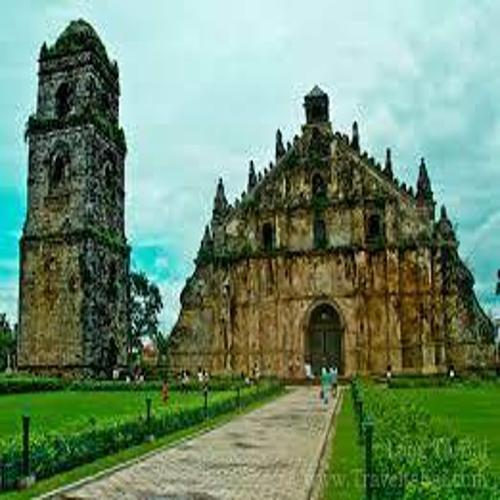Paoay Church: (13, 12, 497, 379)
